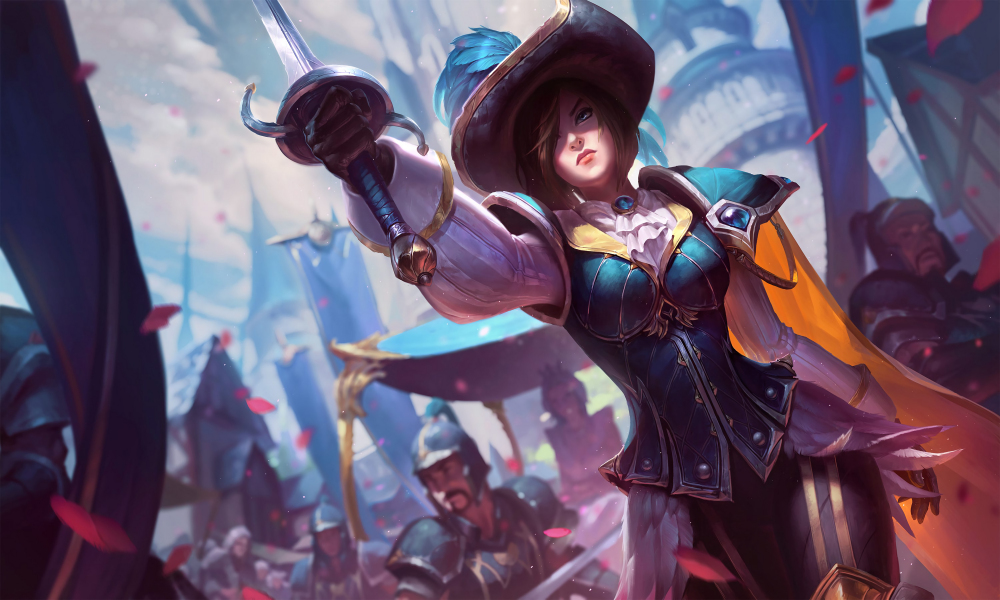face: (453, 1, 674, 233), (393, 399, 500, 524), (858, 186, 975, 289)
